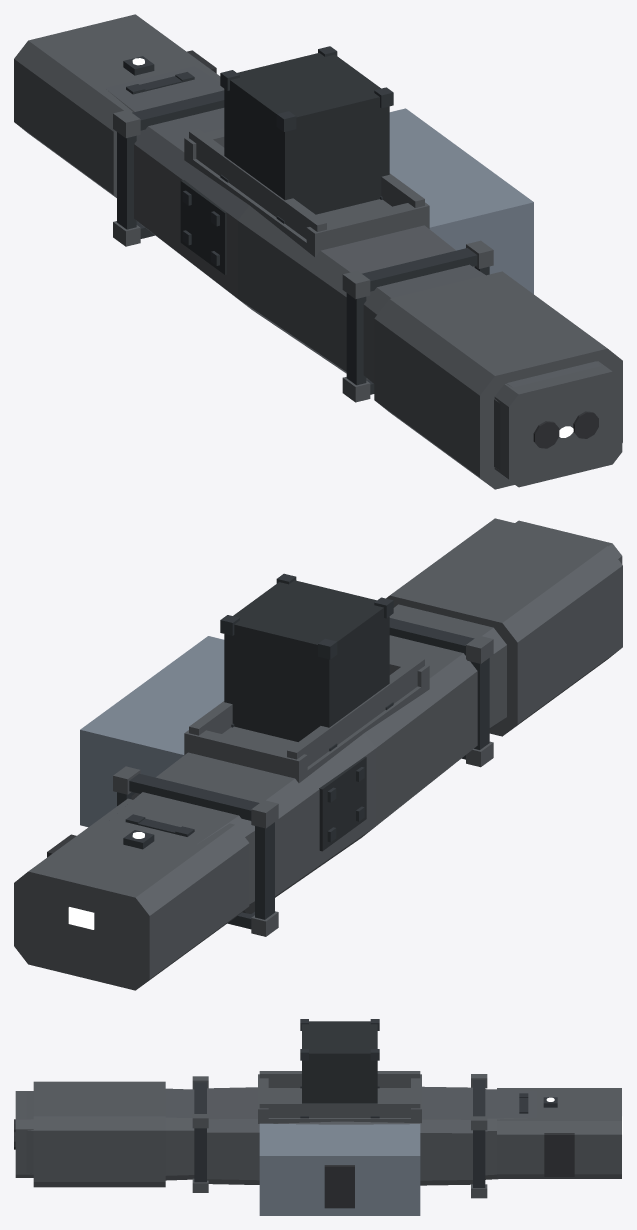
The picture shows the model from 3 angles, top to bottom: view 1: azimuth 30°, elevation 25°; view 2: azimuth 150°, elevation 25°; view 3: azimuth 270°, elevation 25°; orthographic projection. The views are drawn at different scales.
Visible parts, largest first — view 1: RIMWARD_HULL; view 2: RIMWARD_HULL; view 3: RIMWARD_HULL.
Boxes of the visible parts, left/top/right/bottom form: RIMWARD_HULL: left=14, top=14, right=622, bottom=489; RIMWARD_HULL: left=14, top=518, right=622, bottom=990; RIMWARD_HULL: left=14, top=1019, right=621, bottom=1215.
Size of the model in its own units: 1.98 by 1.72 by 6.82.
